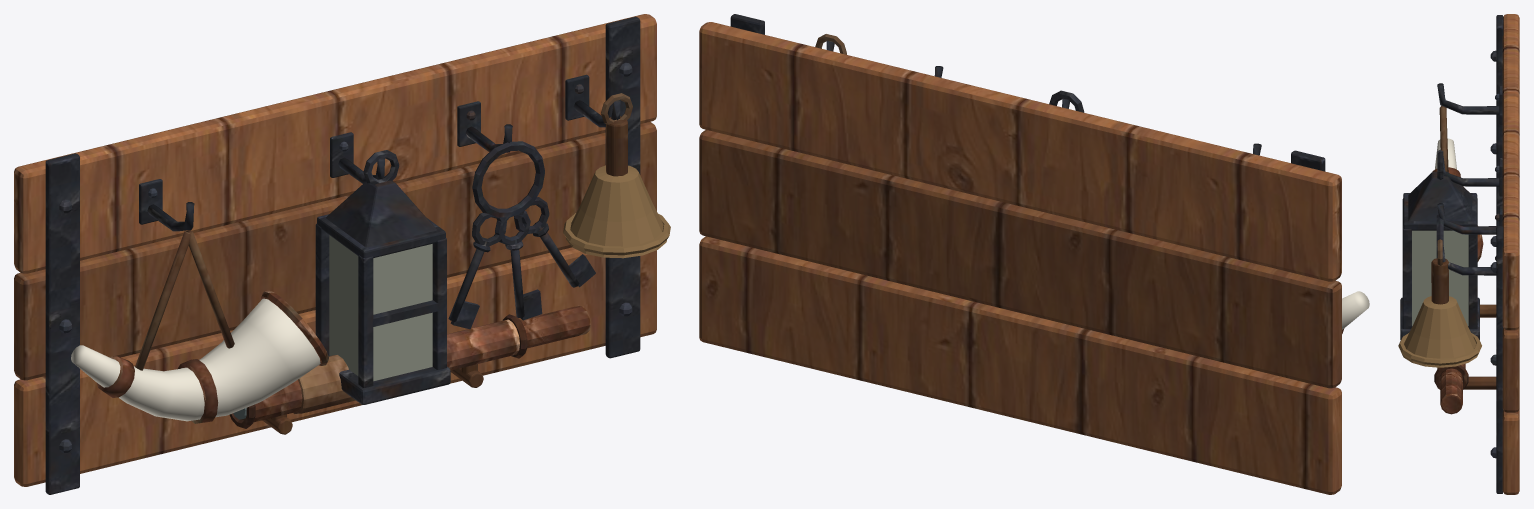
File: rt_watch_hooks.glb
The picture shows the model from 3 angles, left to right: view 1: azimuth 30°, elevation 25°; view 2: azimuth 150°, elevation 25°; view 3: azimuth 270°, elevation 25°; orthographic projection. The views are drawn at different scales.
Parts seen in each view (by area): view 1: model; view 2: model; view 3: model.
Part boxes in pixels (x1=…): model: x1=14, y1=14, x2=670, y2=494; model: x1=699, y1=14, x2=1369, y2=494; model: x1=1398, y1=14, x2=1519, y2=494.
Bounding box in the file's own units: 1 × 0.5 × 0.214.
16 materials, 11 textured.
